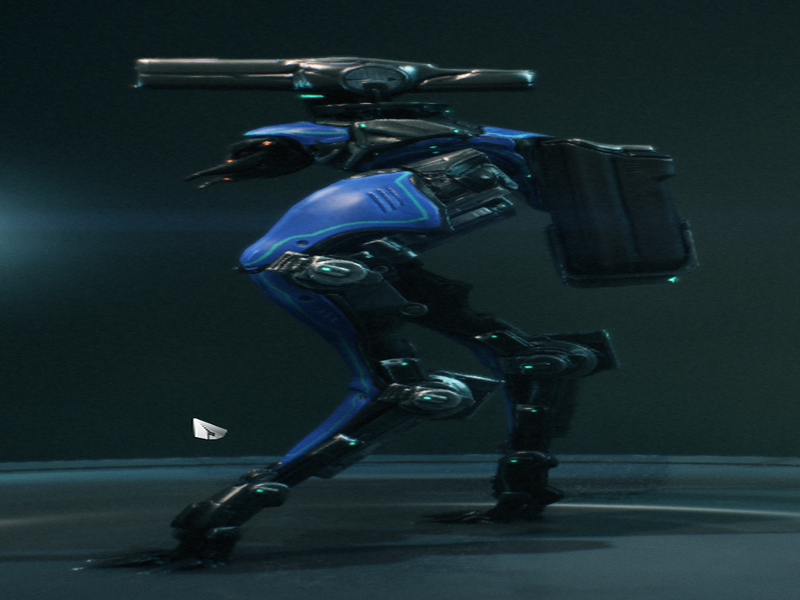railgun_corpus: (72, 48, 703, 575)
